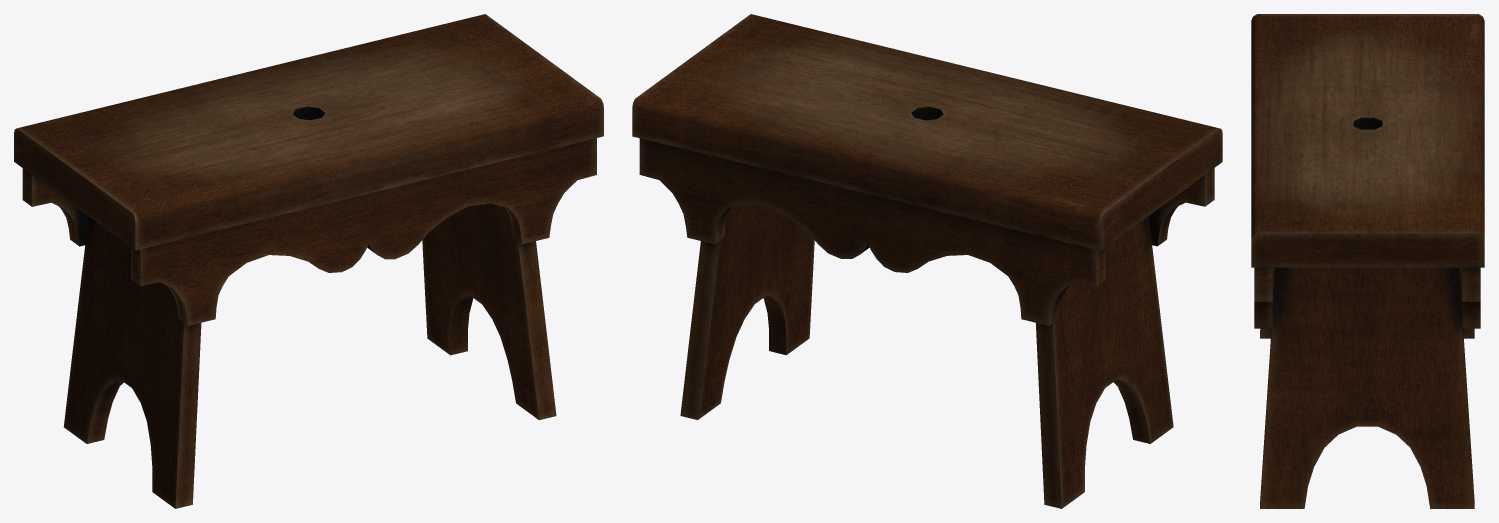
Rendered from stepladder.FBX.
3 views of the same model, side by side, from view 1: azimuth 30°, elevation 25°; view 2: azimuth 150°, elevation 25°; view 3: azimuth 270°, elevation 25° (orthographic). The views are drawn at different scales.
Visible parts, largest first — view 1: stepladder; view 2: stepladder; view 3: stepladder.
Part boxes in pixels (box(x1,y1,x2,y2)): stepladder: box(14, 14, 603, 508); stepladder: box(632, 14, 1222, 508); stepladder: box(1251, 14, 1484, 508).
Bounding box in the file's own units: 0.3396 × 0.2135 × 0.1525.
1 material, 1 textured.
